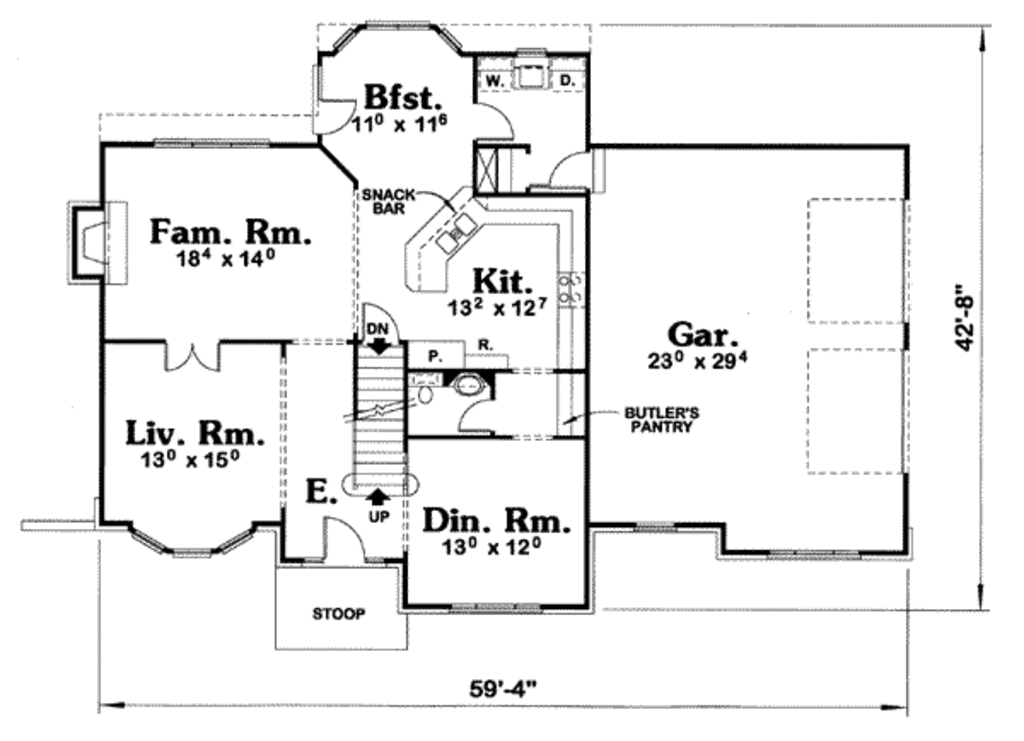door: (314, 510, 372, 567), (160, 334, 225, 376), (313, 95, 360, 145), (545, 147, 595, 193), (360, 297, 403, 347), (470, 100, 520, 142), (452, 398, 496, 436)
kitchen_bar: (398, 181, 489, 296)
large_sink: (409, 375, 448, 408)
small_sink: (448, 370, 496, 401)
stairs: (337, 342, 420, 523)
window: (317, 17, 463, 64), (123, 520, 255, 563), (148, 132, 272, 150), (762, 544, 863, 566), (441, 601, 546, 620), (509, 40, 558, 66), (630, 517, 682, 536)
